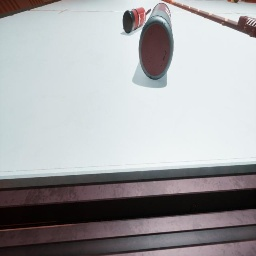0: (227, 0, 239, 3)
FireExtinguisher ]: (123, 7, 151, 34)
FirstAidBox ,: (235, 16, 256, 38)
NitrogenTank ,: (139, 3, 174, 80), (244, 0, 256, 3)
